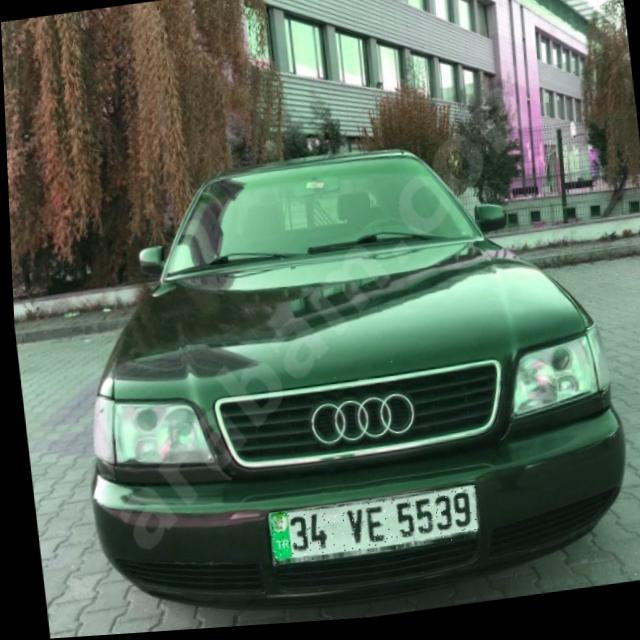license_plate: (261, 491, 476, 568)
